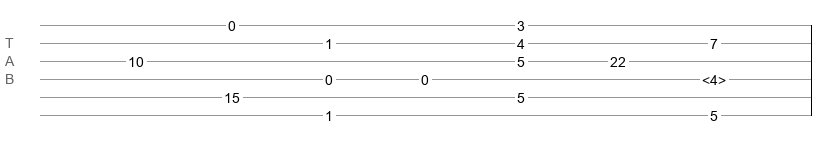0: (228, 18, 236, 28), (325, 72, 333, 82), (421, 72, 429, 82)
1: (325, 36, 333, 46), (325, 108, 333, 118)
10: (128, 54, 144, 64)
15: (224, 90, 240, 100)
22: (610, 54, 626, 64)
3: (517, 18, 525, 28)
4: (517, 36, 525, 46)
5: (517, 54, 525, 64), (517, 90, 525, 100), (710, 108, 718, 118)
7: (710, 36, 718, 46)
harmonic: (702, 72, 726, 82)
